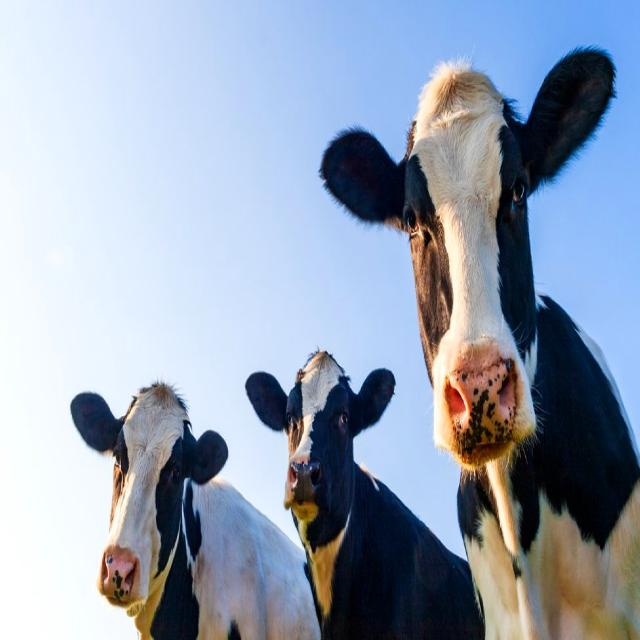cow: (322, 48, 640, 639), (247, 350, 485, 639), (71, 382, 320, 639)
